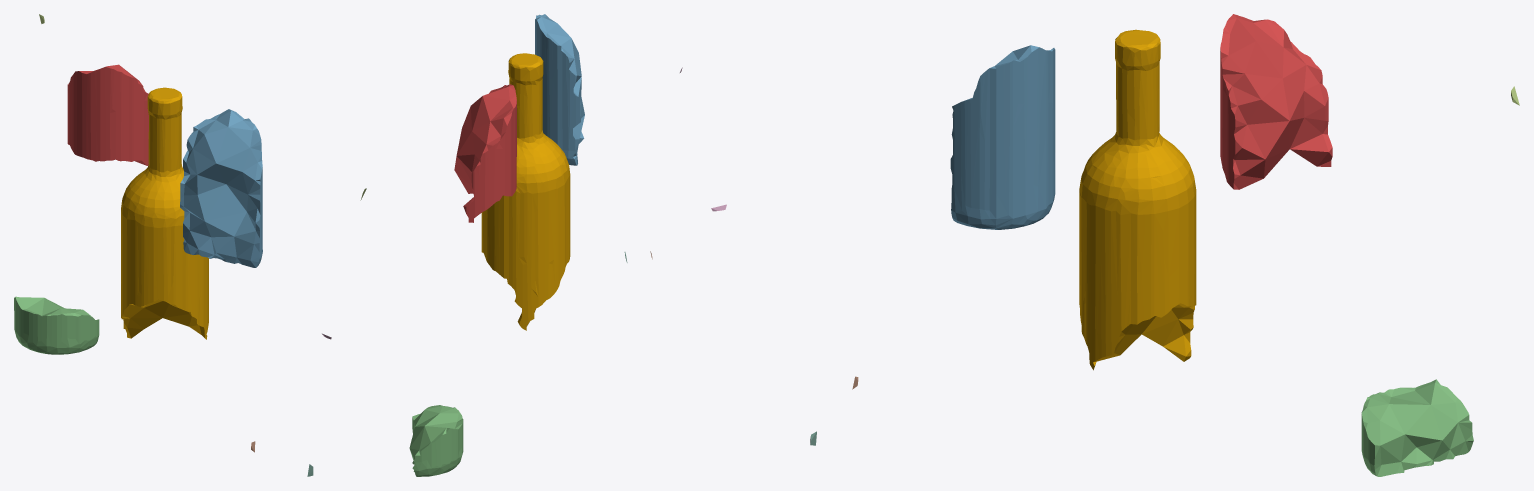
Rendered from mode_5_8pcs_transformed.glb.
3 renders of one model, left to right at view 1: azimuth 30°, elevation 25°; view 2: azimuth 150°, elevation 25°; view 3: azimuth 270°, elevation 25°, orthographic. The views are drawn at different scales.
Visible parts, largest first — view 1: piece_0.obj, piece_2.obj, piece_1.obj, piece_3.obj; view 2: piece_0.obj, piece_1.obj, piece_2.obj, piece_3.obj; view 3: piece_0.obj, piece_2.obj, piece_1.obj, piece_3.obj.
Boxes of the visible parts, bbox=[...] form: piece_0.obj: bbox=[121, 87, 208, 339]; piece_2.obj: bbox=[180, 109, 262, 267]; piece_1.obj: bbox=[67, 64, 148, 165]; piece_3.obj: bbox=[14, 296, 99, 354]; piece_0.obj: bbox=[481, 53, 570, 330]; piece_1.obj: bbox=[454, 84, 516, 222]; piece_2.obj: bbox=[535, 14, 584, 165]; piece_3.obj: bbox=[409, 405, 463, 476]; piece_0.obj: bbox=[1079, 29, 1196, 370]; piece_2.obj: bbox=[950, 45, 1055, 229]; piece_1.obj: bbox=[1220, 14, 1332, 189]; piece_3.obj: bbox=[1361, 379, 1473, 476].
Size of the model in its own units: 0.2492 by 1.02 by 1.72.
